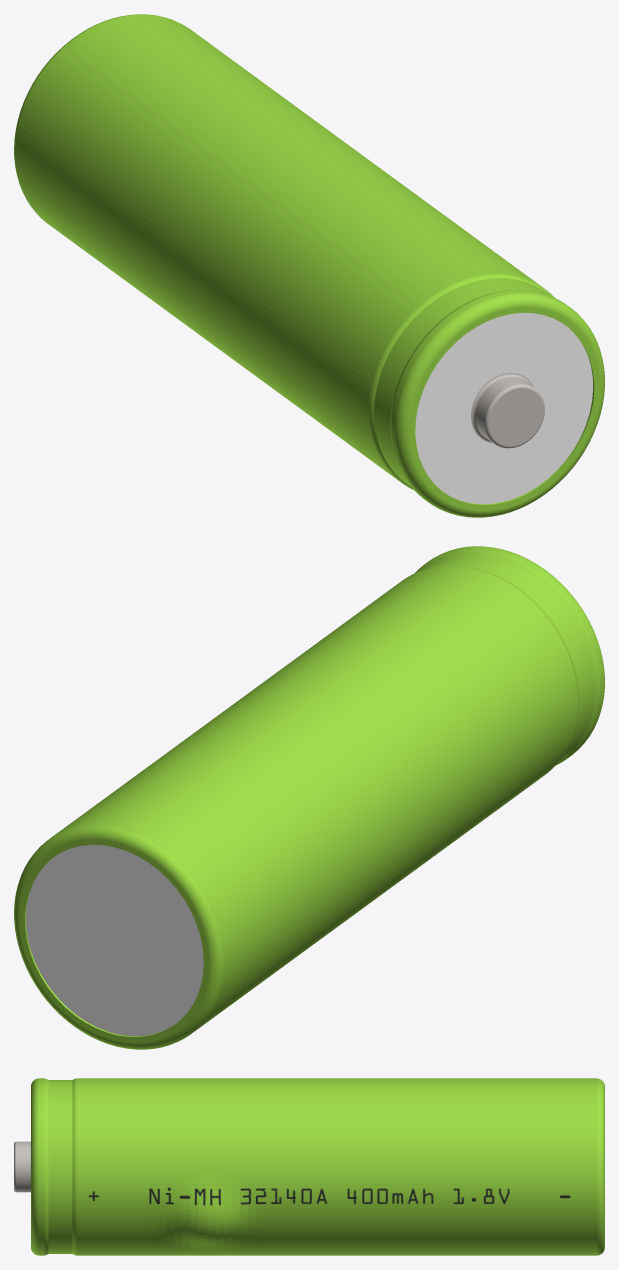
File: defect_1.glb
3 views of the same model, one above another, from view 1: azimuth 30°, elevation 25°; view 2: azimuth 150°, elevation 25°; view 3: azimuth 270°, elevation 25° (orthographic). The views are drawn at different scales.
Parts seen in each view (by area): view 1: Cylinder, Cell_Top; view 2: Cylinder, Cell_bottom, Cell_Top; view 3: Cylinder, Cell_Top, Cell_bottom.
Boxes of the visible parts, x1,y1,x2,y2 form: Cylinder: (15,15,550,480); Cell_Top: (368,273,604,517); Cylinder: (41,566,577,1031); Cell_bottom: (14,824,224,1049); Cell_Top: (415,546,604,765); Cylinder: (77,1078,596,1255); Cell_Top: (14,1078,77,1255); Cell_bottom: (596,1078,604,1255).
Size of the model in its own units: 0.022 by 0.021 by 0.07.
Materials: 10 (1 with a texture image).
